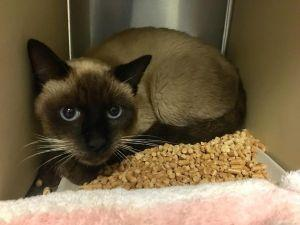siamese: (23, 34, 157, 177)
